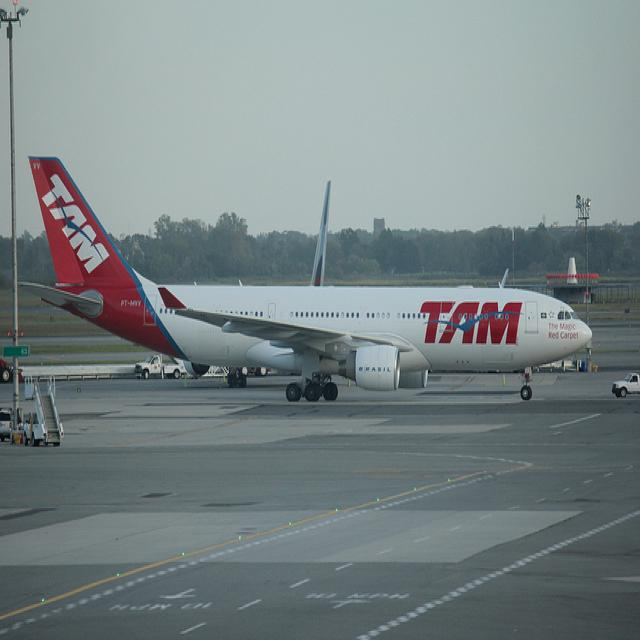airplane: (18, 153, 594, 405)
